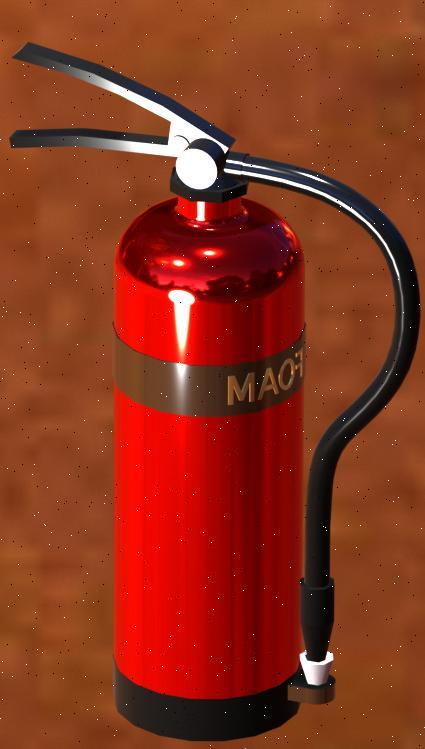Fire Extinguisher: (8, 22, 425, 748)
